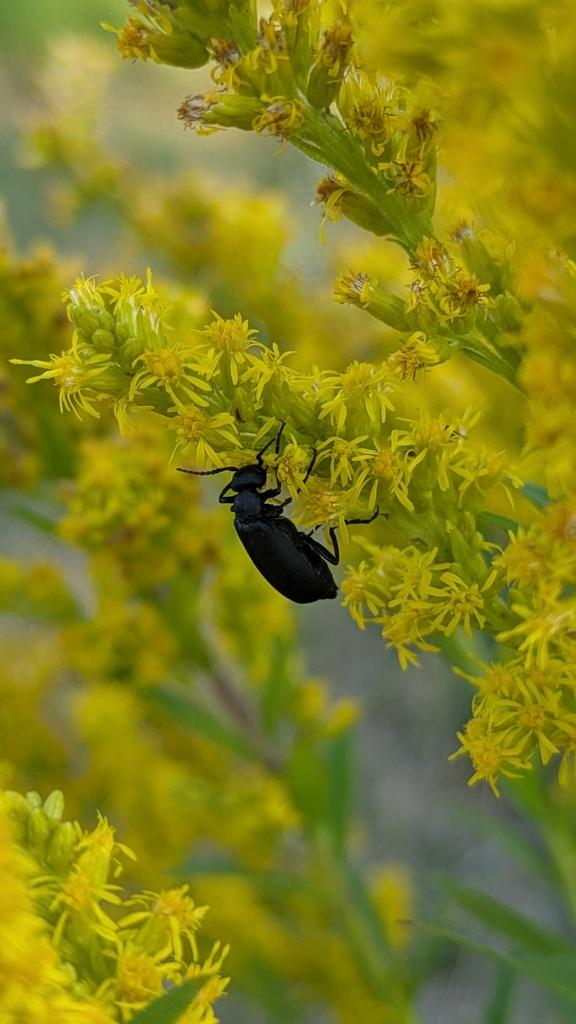blister_beetle: (145, 389, 390, 660)
